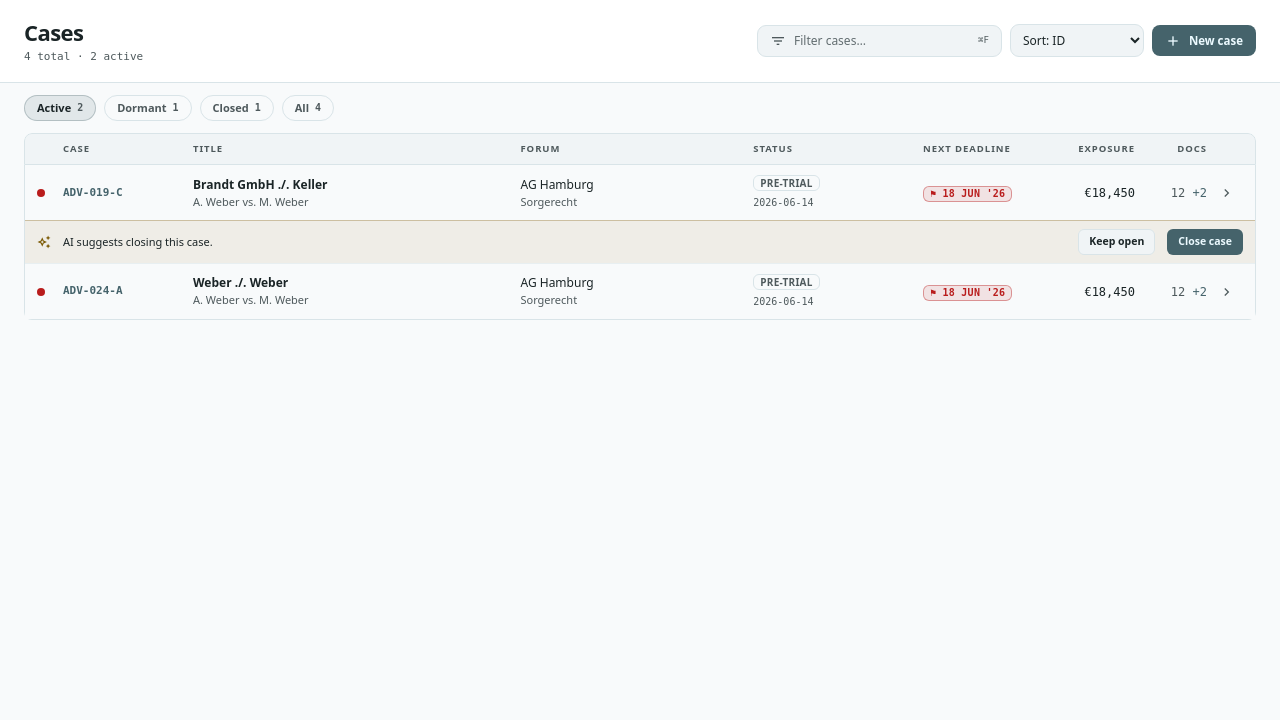
Test case: new case modal submits and shows server errors
Click the button "New case": (1204, 41) [1152,25,1256,56]
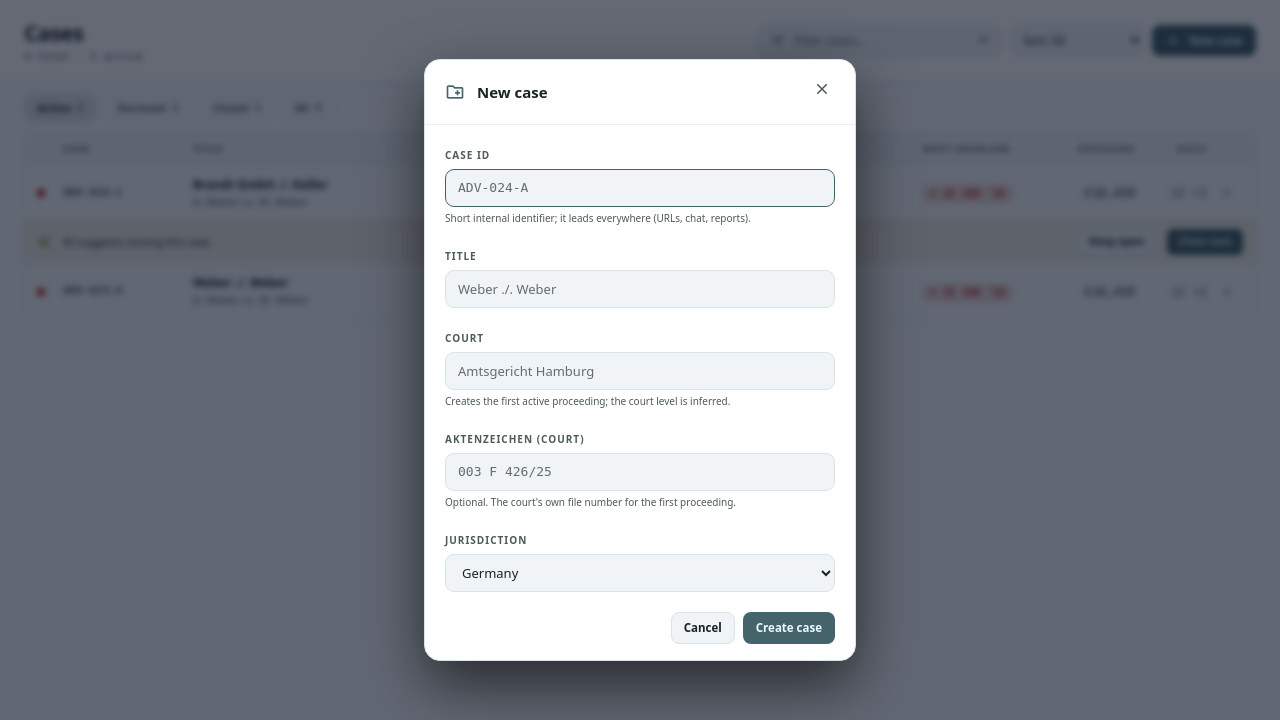
In the field labelled "Case ID": (640, 188) [445,169,835,207], type "X"
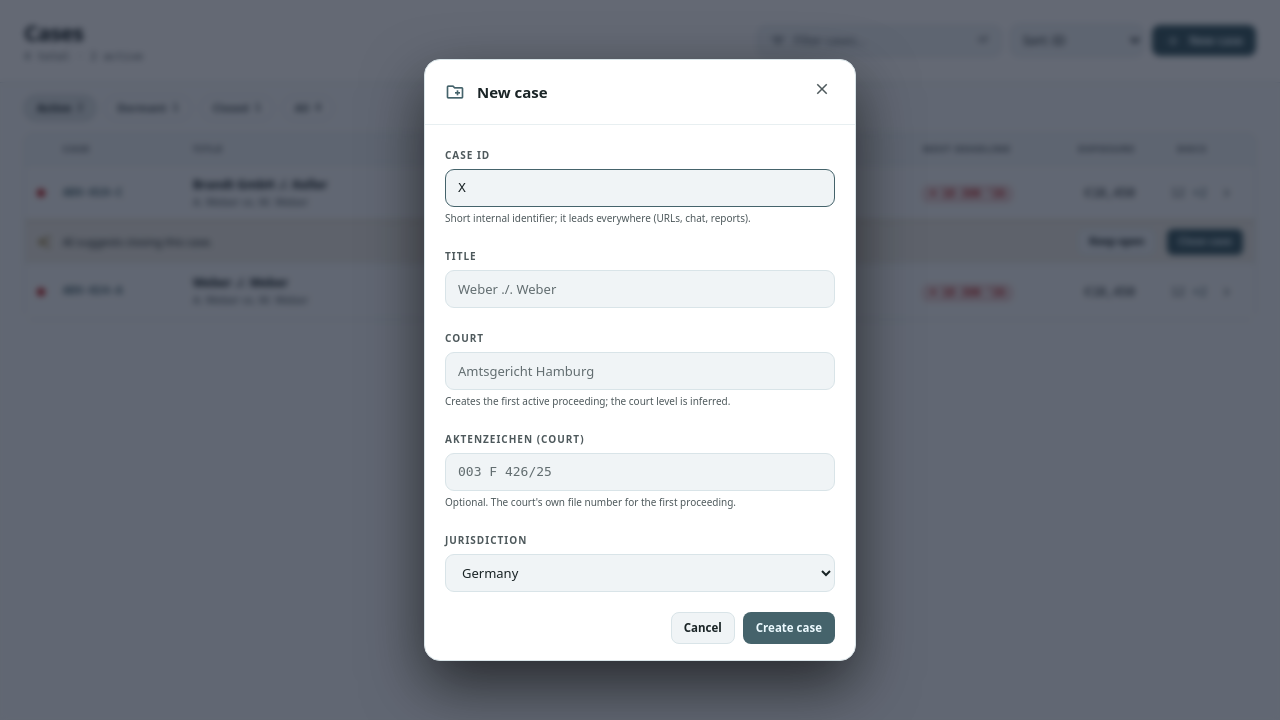
In the field labelled "Title": (640, 289) [445,270,835,308], type "T"
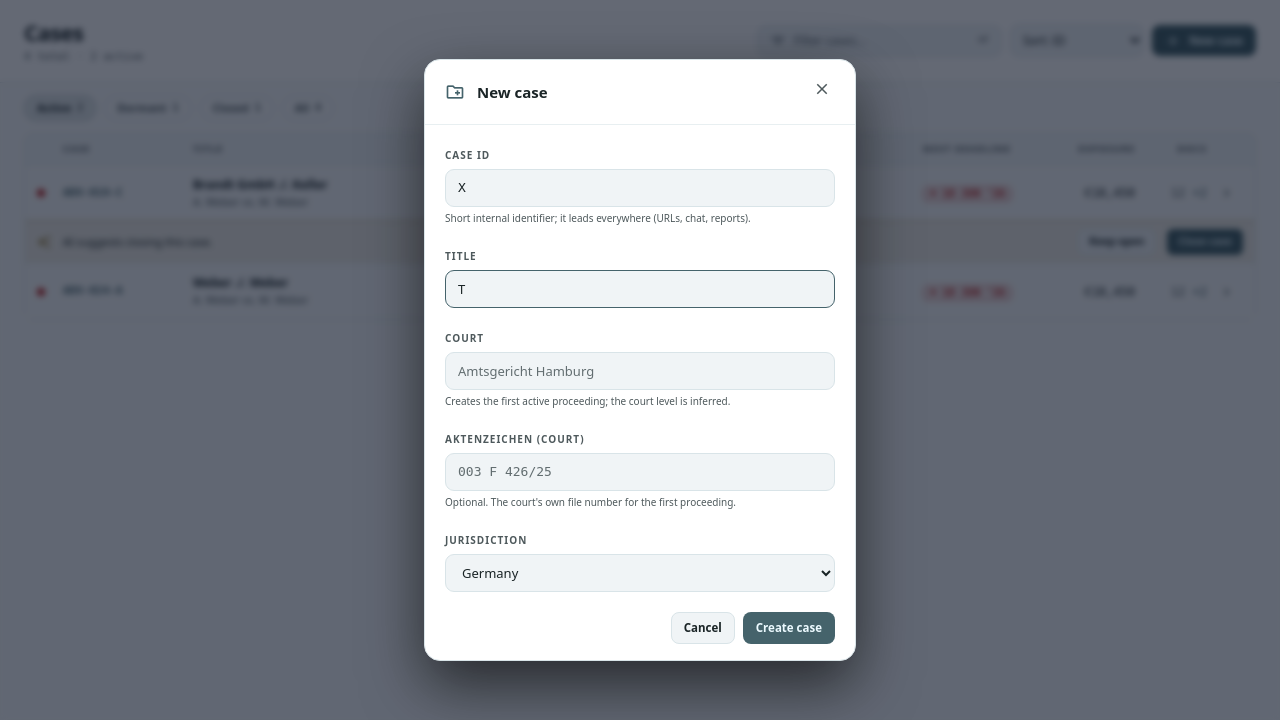
In the field labelled "Court": (640, 371) [445,352,835,390], type "AG Hamburg"
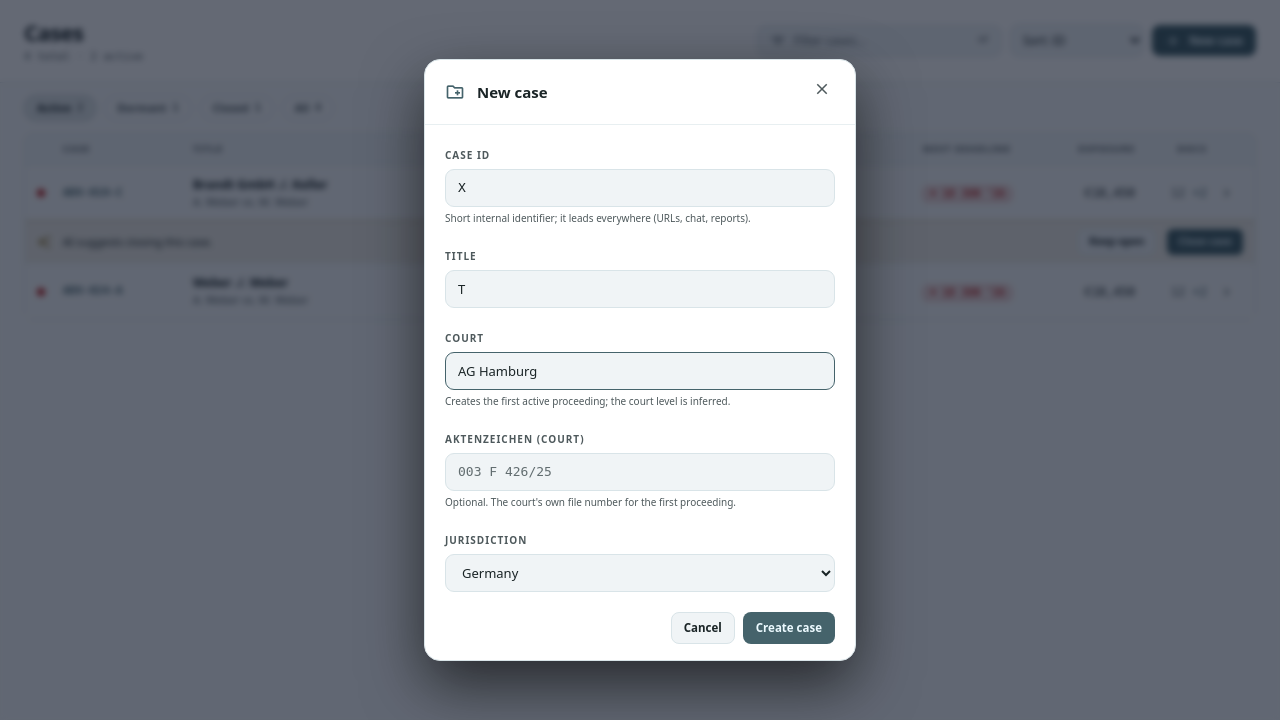
Click the button "Create case": (789, 628) [743,612,835,644]
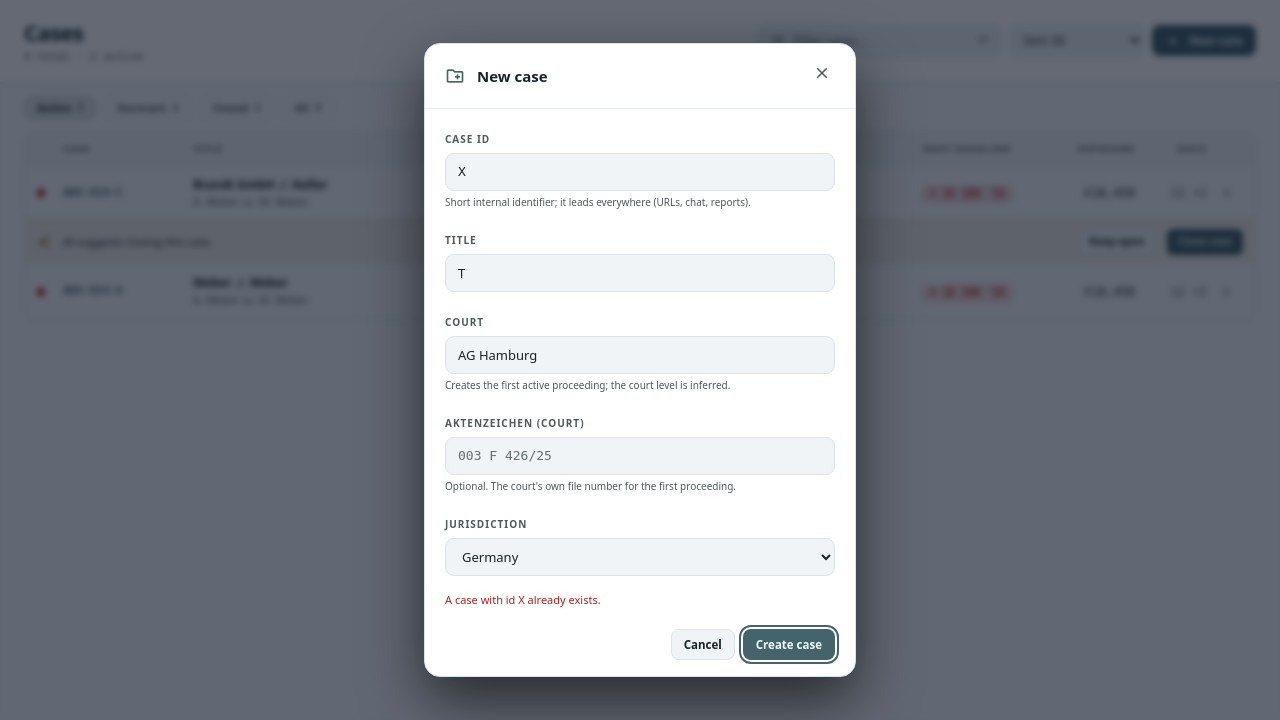
Expected: the message shows "already exists", [445,592,601,607]
